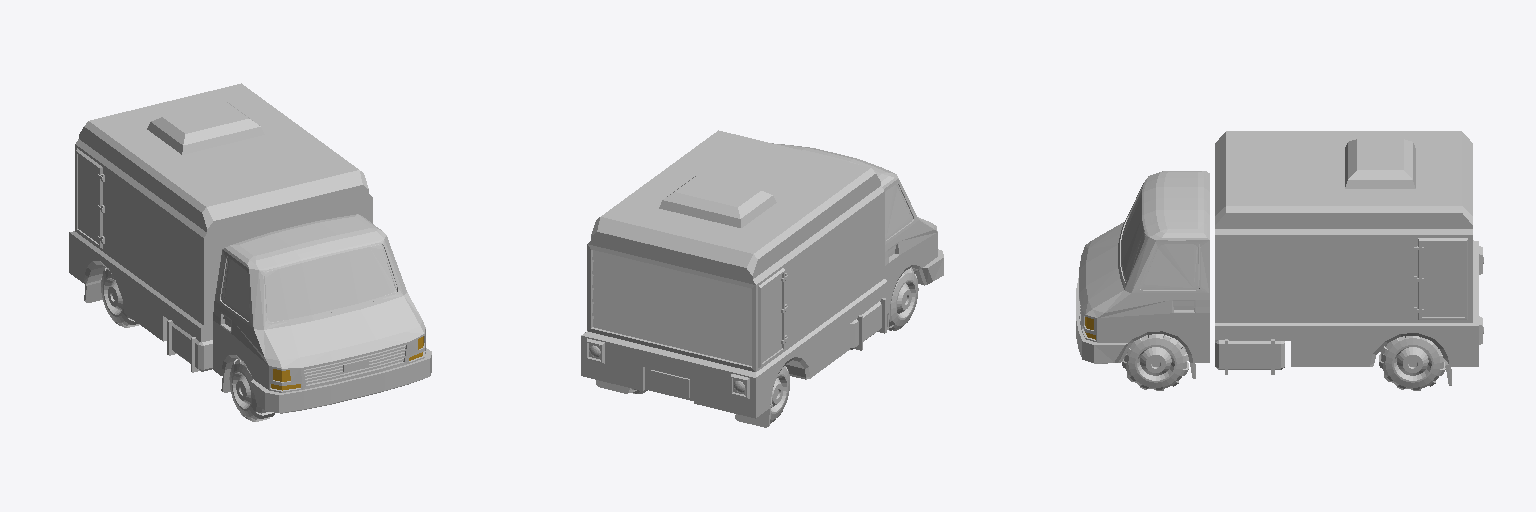
File: Vehicle_Truck.obj
3 views of the same model, side by side, from view 1: azimuth 30°, elevation 25°; view 2: azimuth 150°, elevation 25°; view 3: azimuth 270°, elevation 25° (orthographic).
Parts seen in each view (by area): view 1: Truck_Cylinder.030, FrontWheel_R_Cylinder.000, BackWheels_Cylinder.001; view 2: Truck_Cylinder.030, FrontWheel_R_Cylinder.000, BackWheels_Cylinder.001; view 3: Truck_Cylinder.030, FrontWheel_L_Cylinder.002, BackWheels_Cylinder.001.
Boxes of the visible parts, x1,y1,x2,y2 form: Truck_Cylinder.030: [69, 83, 431, 413]; FrontWheel_R_Cylinder.000: [229, 359, 274, 421]; BackWheels_Cylinder.001: [101, 268, 139, 327]; Truck_Cylinder.030: [581, 130, 943, 427]; FrontWheel_R_Cylinder.000: [887, 267, 918, 330]; BackWheels_Cylinder.001: [629, 366, 789, 423]; Truck_Cylinder.030: [1076, 131, 1483, 385]; FrontWheel_L_Cylinder.002: [1122, 334, 1188, 390]; BackWheels_Cylinder.001: [1379, 336, 1445, 390].
Bounding box in the file's own units: 2.71 × 2.88 × 5.26.